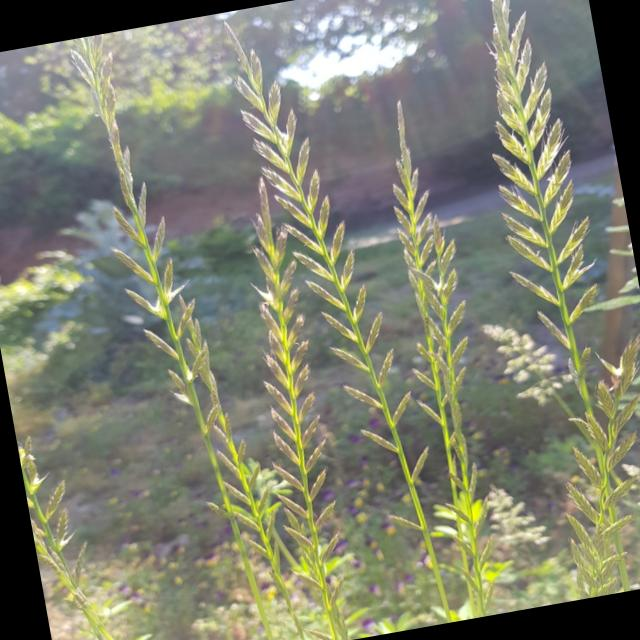Lolium: (49, 21, 294, 640), (222, 14, 438, 504), (216, 170, 344, 580), (458, 0, 608, 347), (370, 99, 490, 516), (530, 336, 640, 600), (15, 421, 132, 640), (200, 404, 296, 621)
